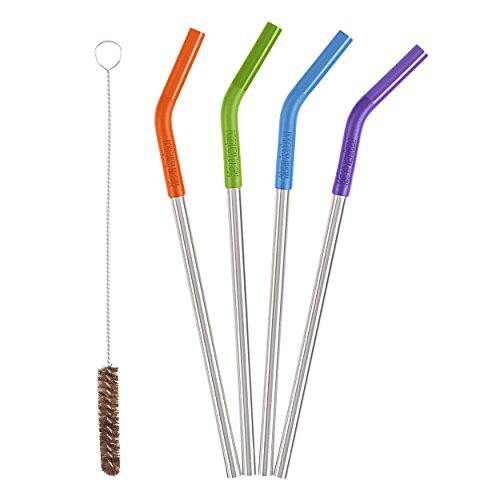Drinking Straw: (150, 24, 247, 479)
